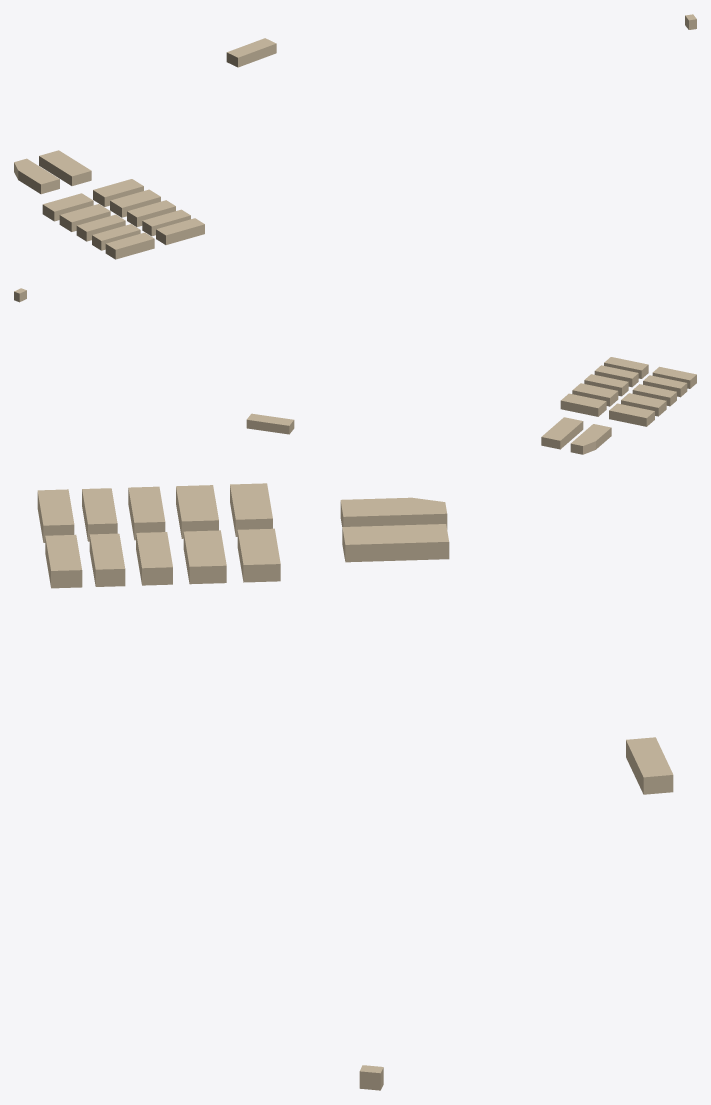
Rendered from -17_11-estimated-coarse.glb.
The picture shows the model from 3 angles, top to bottom: view 1: azimuth 30°, elevation 25°; view 2: azimuth 150°, elevation 25°; view 3: azimuth 270°, elevation 25°; orthographic projection. The views are drawn at different scales.
Size of the model in its own units: 874 by 12 by 398.
